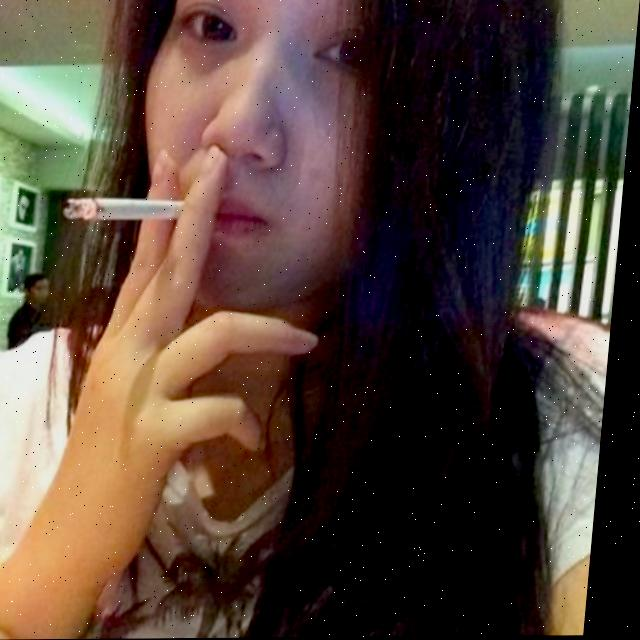cigarette: (66, 196, 189, 222)
